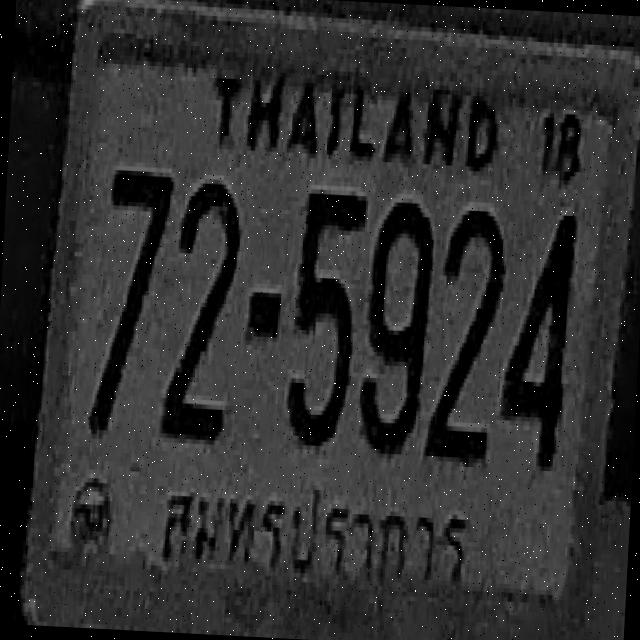2: (424, 207, 508, 466), (161, 178, 242, 442)
4: (499, 206, 578, 470)
5: (285, 187, 368, 450)
7: (90, 165, 174, 437)
9: (358, 197, 437, 456)
SamutPrakan: (148, 469, 480, 604)
